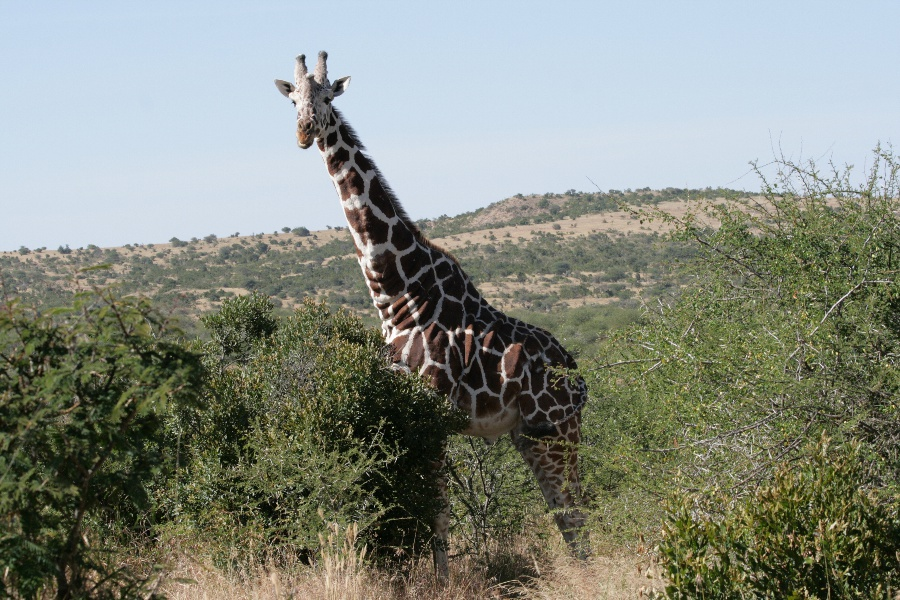giraffe: (254, 37, 606, 568)
